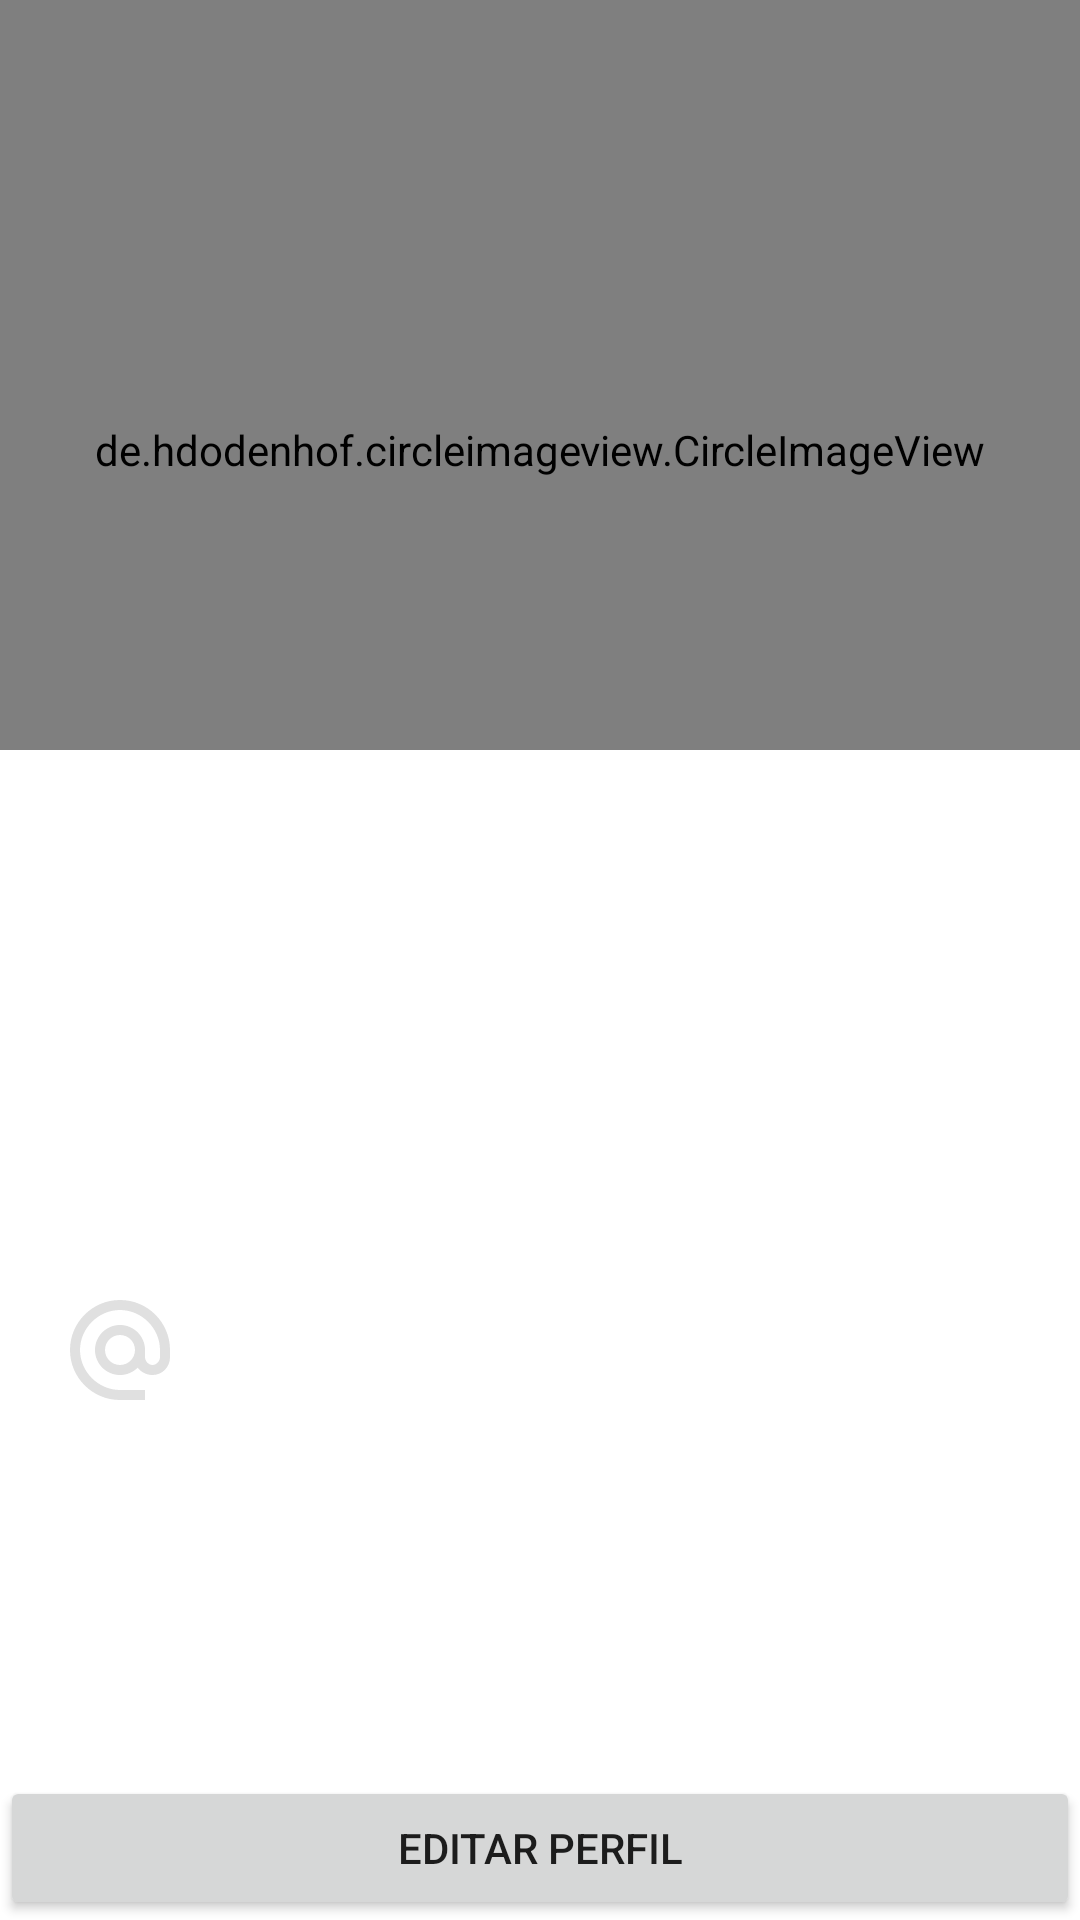

Where icons sit on this 1080 × 1920 app screen, as box=[x1, y1, x2, y2]:
email: box=[70, 1300, 170, 1400]
